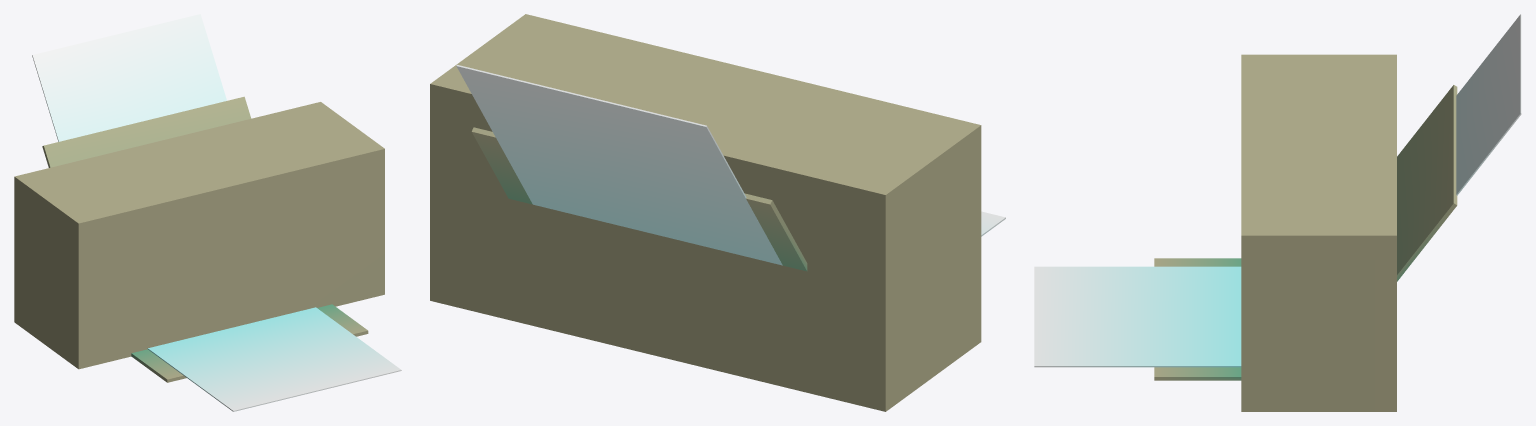
The picture shows the model from 3 angles, left to right: view 1: azimuth 30°, elevation 25°; view 2: azimuth 150°, elevation 25°; view 3: azimuth 270°, elevation 25°; orthographic projection. The views are drawn at different scales.
Visible parts, largest first — view 1: housing, paper.001, paper, support, tray; view 2: housing, paper.001, support; view 3: housing, paper, support, paper.001, tray.
Boxes of the visible parts, left/top/right/bottom form: housing: left=14, top=102, right=384, bottom=369; paper.001: left=32, top=14, right=226, bottom=141; paper: left=147, top=307, right=401, bottom=411; support: left=42, top=96, right=251, bottom=167; tray: left=131, top=304, right=368, bottom=382; housing: left=430, top=14, right=981, bottom=411; paper.001: left=456, top=64, right=782, bottom=265; support: left=471, top=127, right=807, bottom=271; housing: left=1241, top=54, right=1396, bottom=411; paper: left=1034, top=266, right=1241, bottom=367; support: left=1397, top=85, right=1457, bottom=281; paper.001: left=1456, top=14, right=1521, bottom=195; tray: left=1154, top=258, right=1241, bottom=380.
Size of the model in its own units: 0.3936 by 0.2615 by 0.4481.
